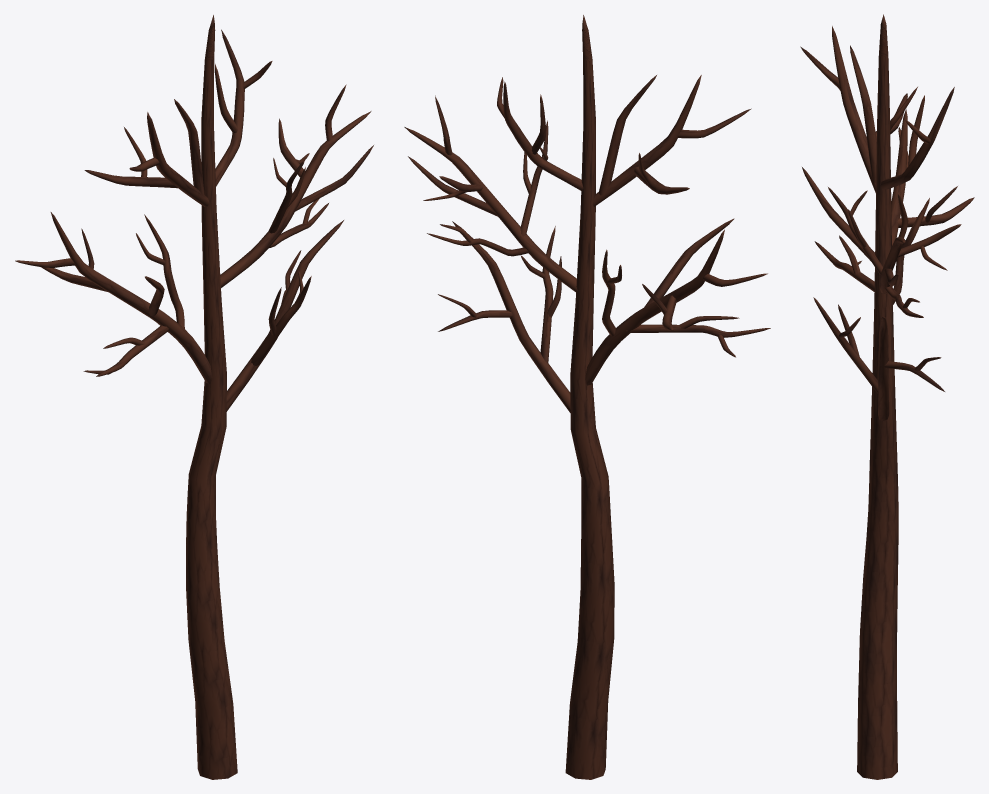
Rendered from dead_tree_1.glb.
The picture shows the model from 3 angles, left to right: view 1: azimuth 30°, elevation 25°; view 2: azimuth 150°, elevation 25°; view 3: azimuth 270°, elevation 25°; orthographic projection.
Parts seen in each view (by area): view 1: DeadTree_12; view 2: DeadTree_12; view 3: DeadTree_12.
Part boxes in pixels (left/top/right/bottom): DeadTree_12: left=15, top=15, right=373, bottom=779; DeadTree_12: left=404, top=15, right=770, bottom=779; DeadTree_12: left=800, top=14, right=974, bottom=779.
Bounding box in the file's own units: 3.09 × 6.2 × 1.3.
1 material, 1 textured.
